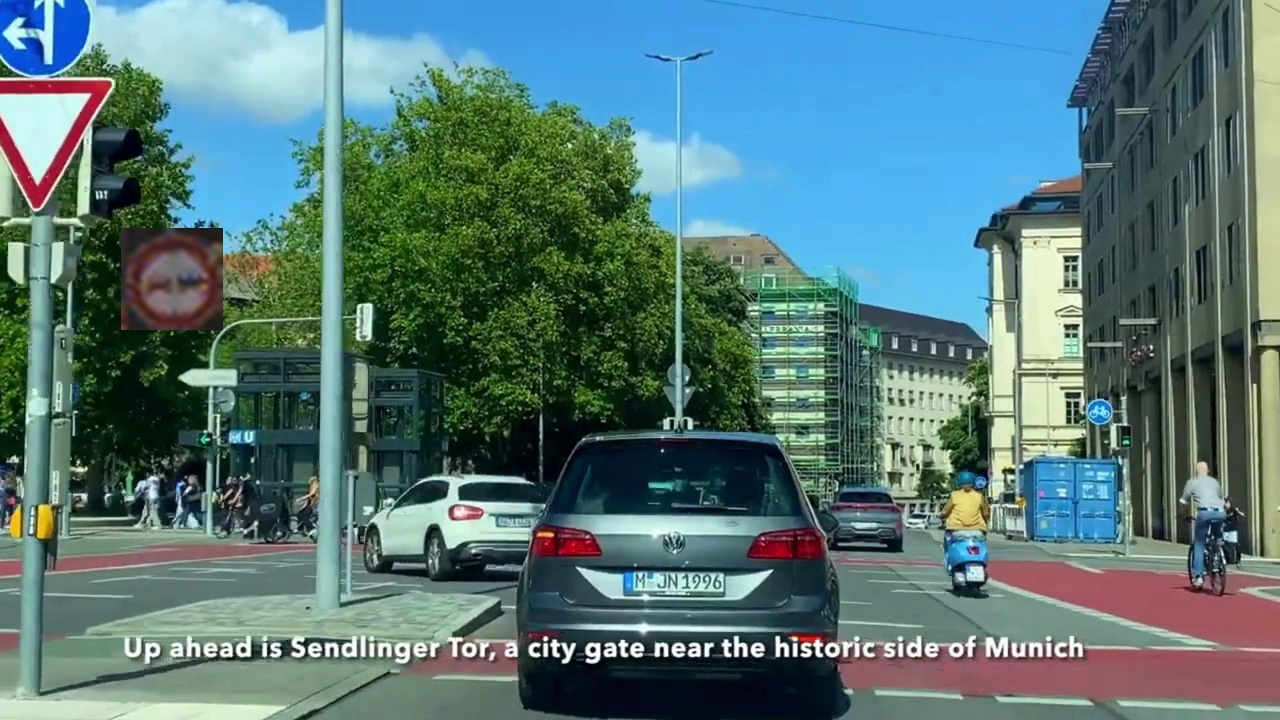No passing: (121, 228, 223, 330)
